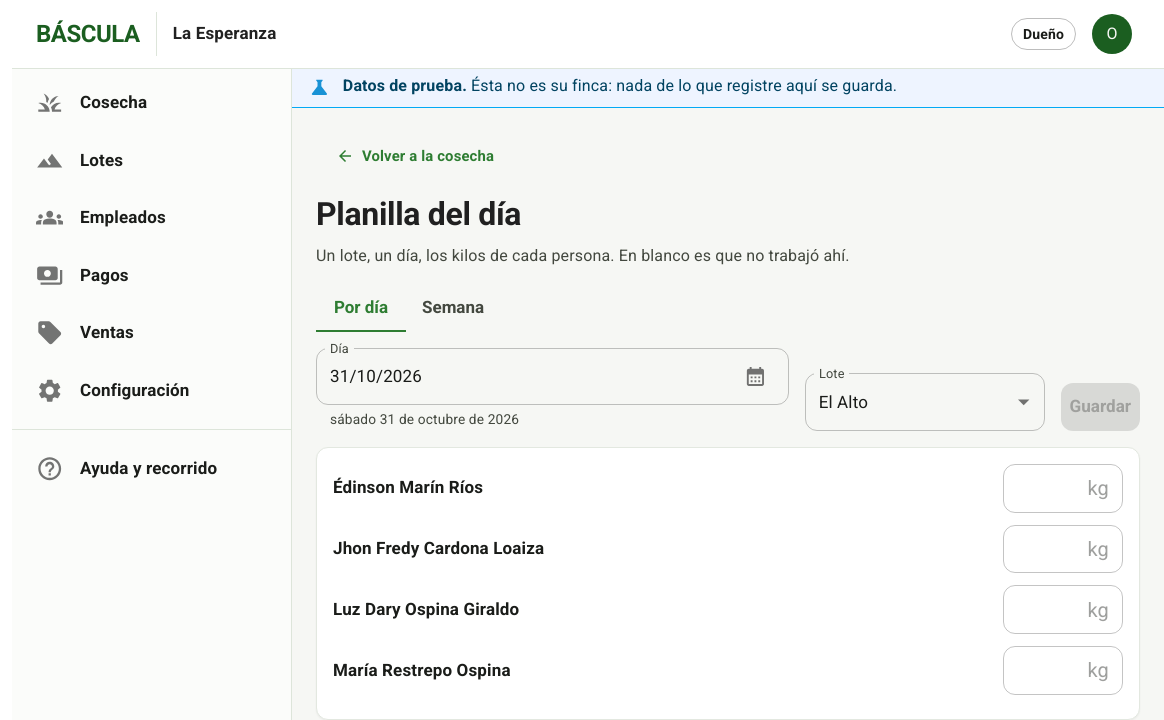
Planilla pickers › goes from a day with no date to this week
This screenshot has width=1164, height=720.
Expected: the heading "Planilla del día" is shown, [316,195,521,233]
Step 1. Click the tab "Semana" → (453, 308), box [406,284,500,332]
(page scrolled)
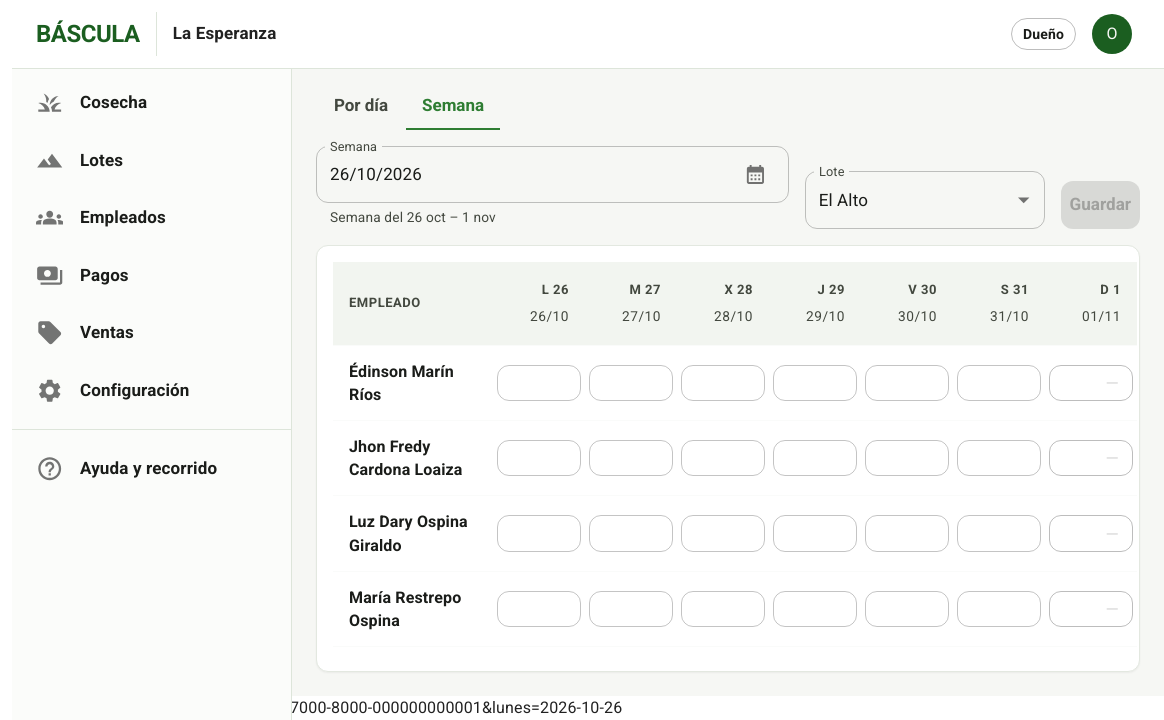
Now the text with test id "search" reads "?modo=semana&lote=0192f3a0-0004-7000-8000-000000000001&lunes=2026-10-26", box [12,698,622,717]
